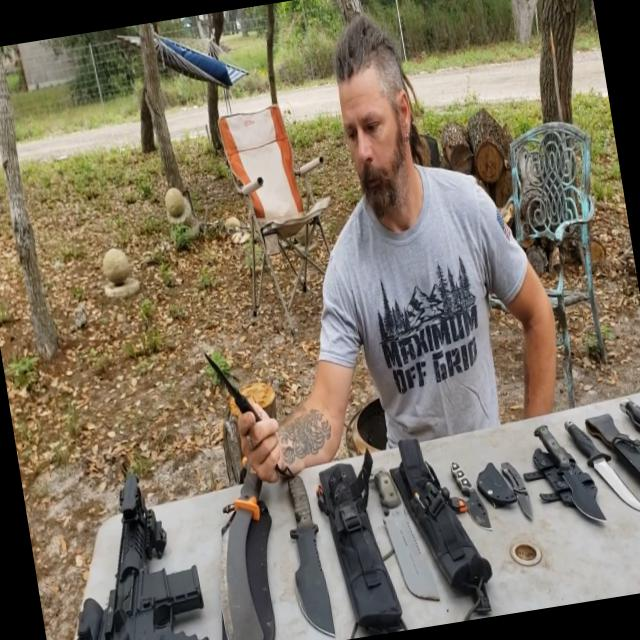knife: (190, 434, 309, 639), (254, 434, 351, 624), (351, 433, 441, 600), (427, 420, 510, 564), (192, 346, 290, 456), (528, 404, 610, 530), (556, 396, 634, 514), (494, 434, 550, 546)
long weapon: (22, 456, 237, 639)
